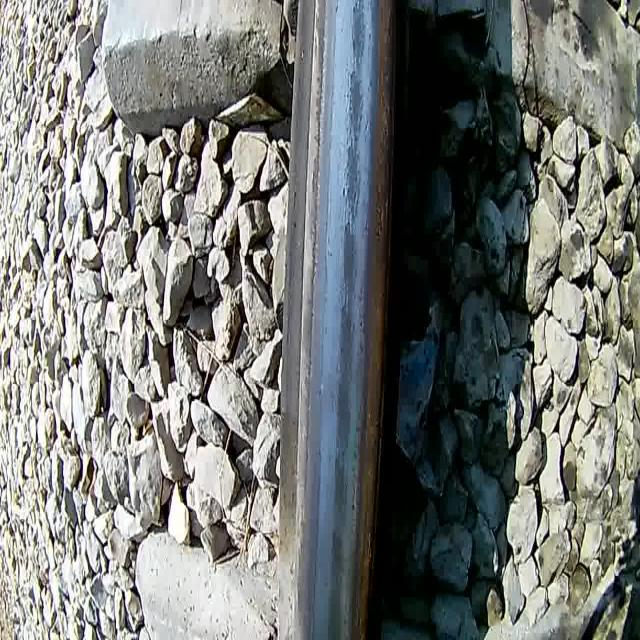Cracks: (341, 171, 363, 238), (344, 70, 356, 188), (358, 0, 366, 72), (340, 268, 350, 321), (350, 18, 357, 68), (356, 99, 364, 141)
Squats: (341, 137, 364, 223), (332, 370, 353, 455), (338, 218, 359, 302), (346, 0, 371, 70), (344, 69, 367, 143), (336, 298, 356, 380), (326, 522, 346, 587), (331, 452, 350, 520), (324, 581, 345, 640)
